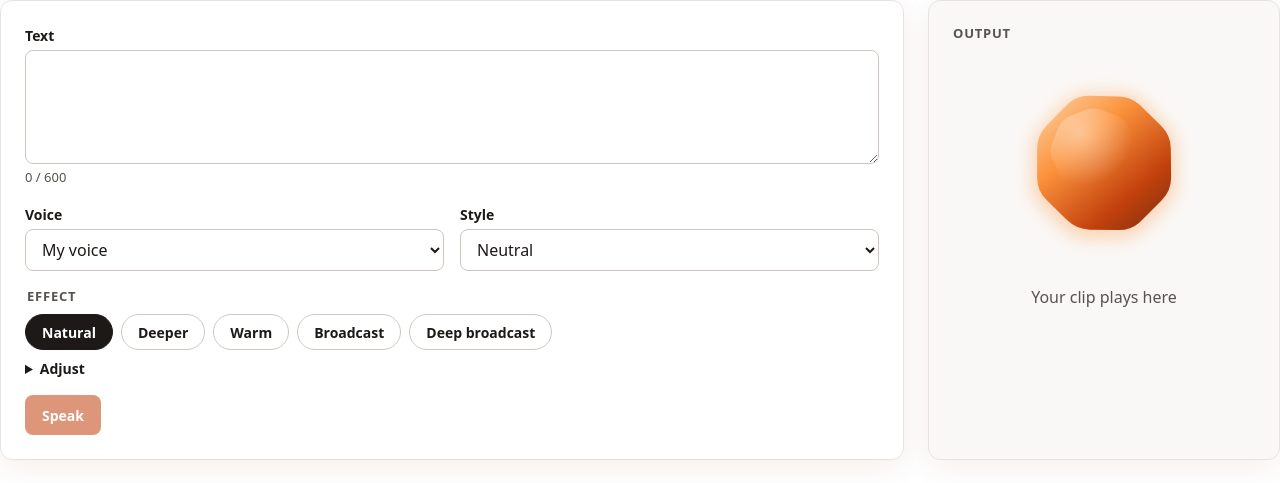
Test case: type to speech › says when a clip fails, and offers to try again
Type "Hi." into the text box labelled "Text".
click(452, 107); type("Hi.")  # box x1=25 y1=50 x2=879 y2=164
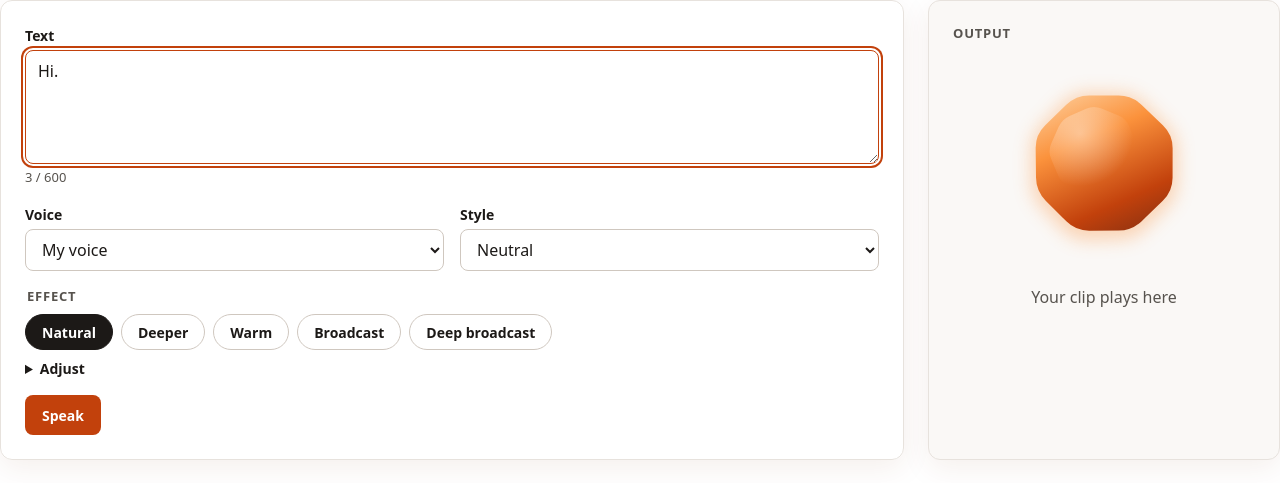
Click the button "Speak".
click(63, 415)  # box x1=25 y1=395 x2=101 y2=435
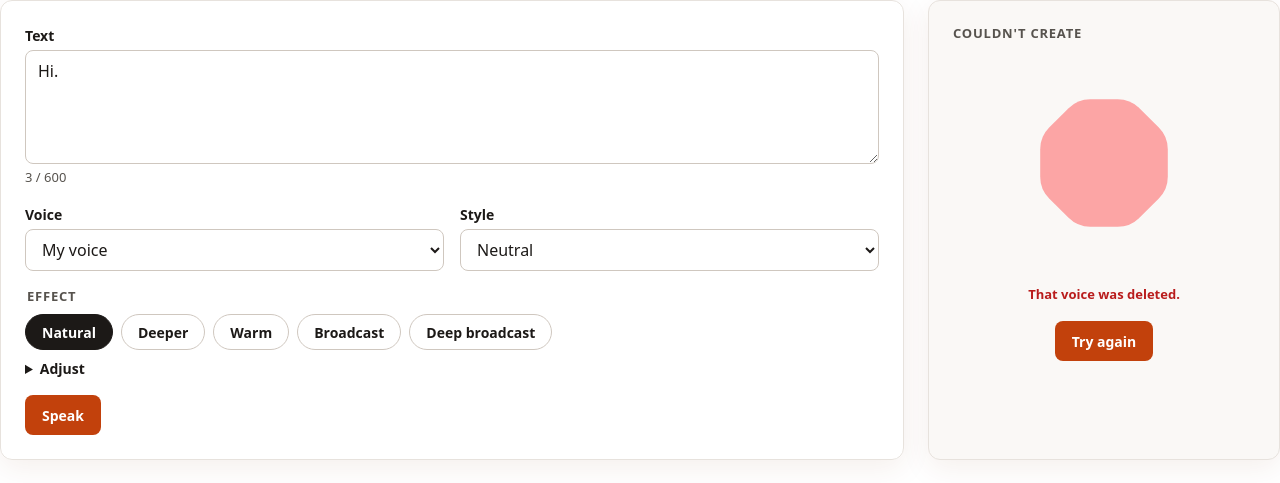
Now the text "That voice was deleted." is shown, box x1=1028 y1=285 x2=1180 y2=305
Now the heading "Couldn't create" is shown, box x1=953 y1=25 x2=1082 y2=41
Now the button "Try again" is shown, box x1=1055 y1=321 x2=1153 y2=361
